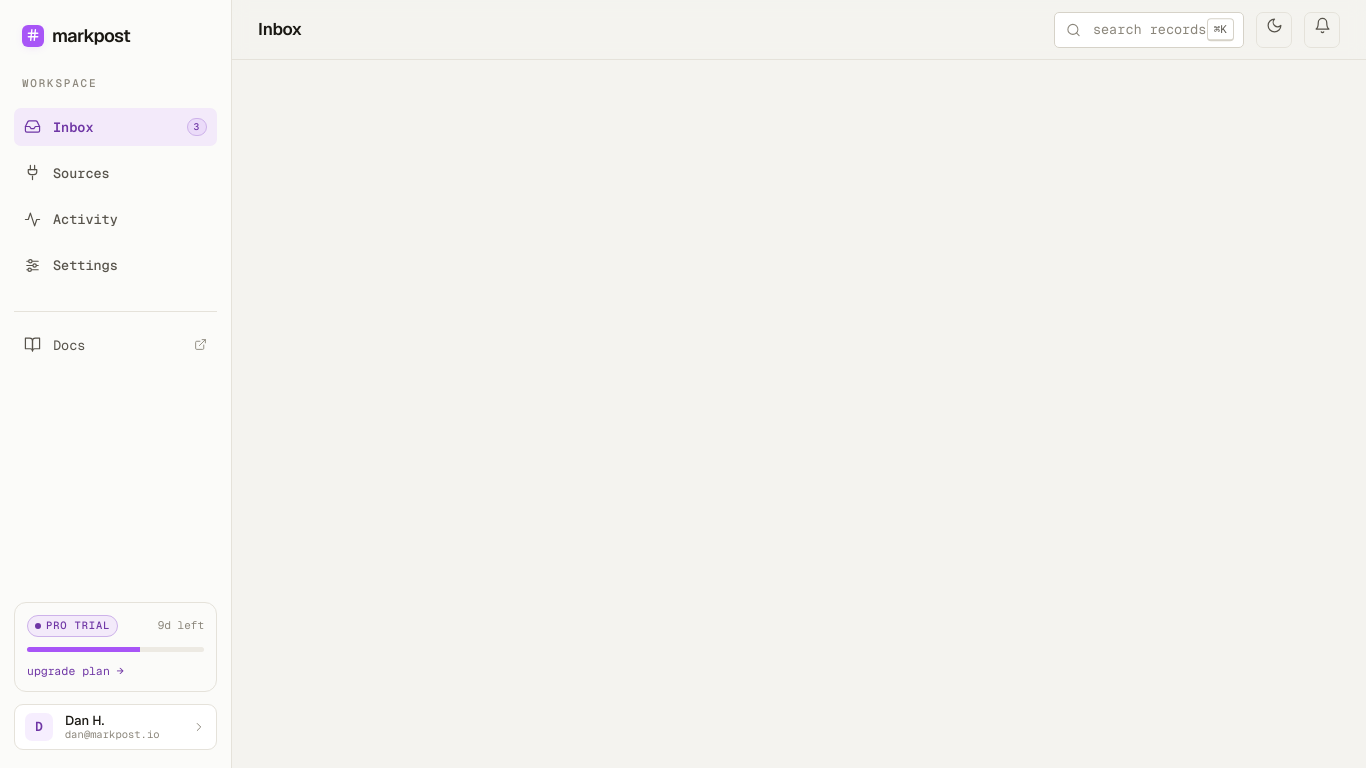
Test case: TheAppShell › header search › shows a dropdown of results while focused with matches
The image size is (1366, 768).
Focus the field with placeholder "search records…" at (1149, 30), box [1054,12,1244,48]
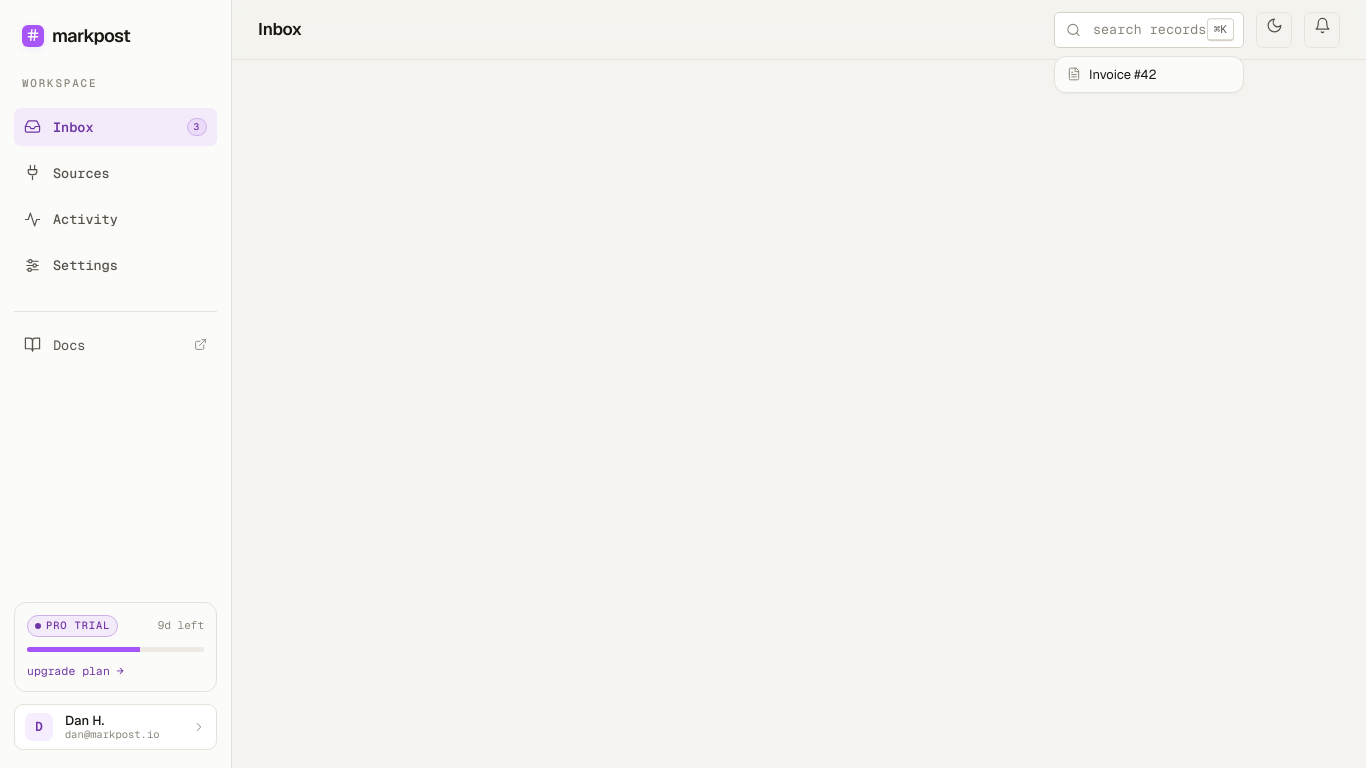
expect the text "Invoice #42" is shown: met, box [1089,64,1156,84]
